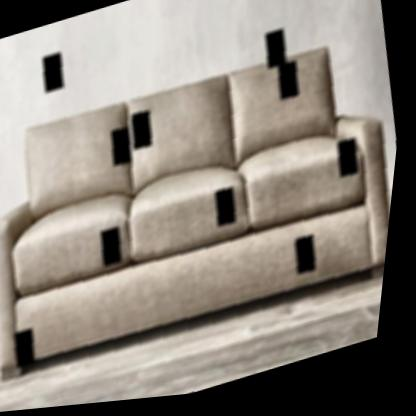Sofa: (0, 28, 411, 381)
